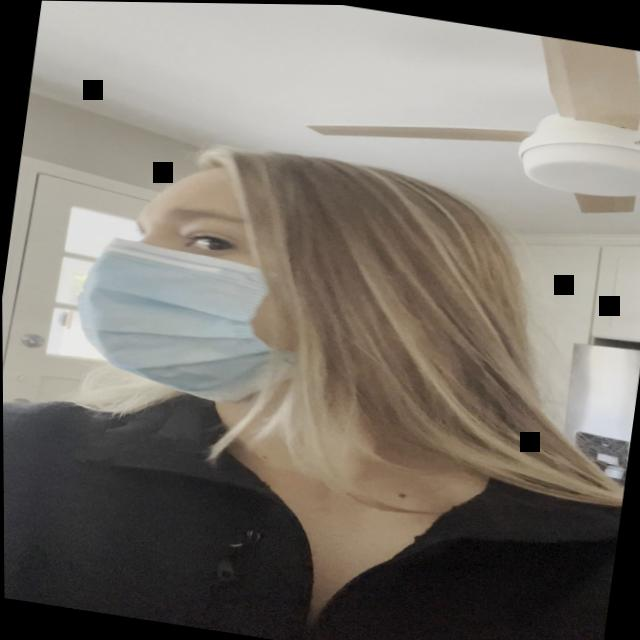Mask: (64, 137, 323, 417)
